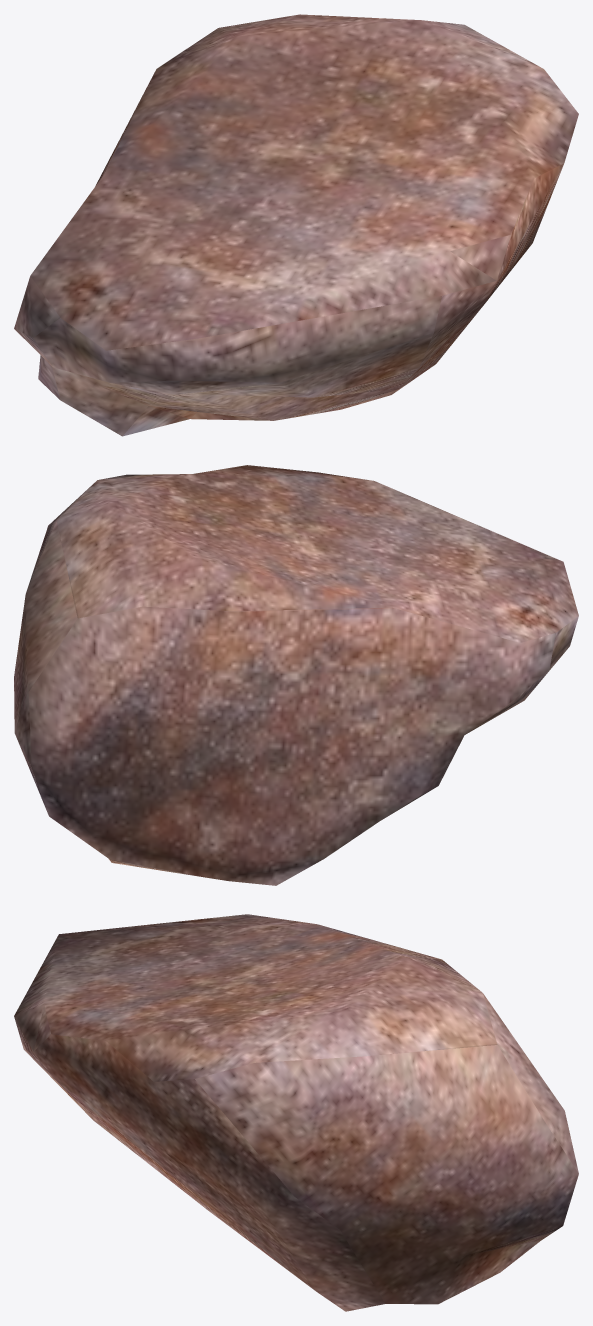
File: rock066.glb
3 renders of one model, top to bottom at view 1: azimuth 30°, elevation 25°; view 2: azimuth 150°, elevation 25°; view 3: azimuth 270°, elevation 25°, orthographic. The views are drawn at different scales.
Parts seen in each view (by area): view 1: rock066; view 2: rock066; view 3: rock066.
Boxes of the visible parts, box(x1,y1,x2,y2) form: rock066: box(14, 14, 578, 436); rock066: box(14, 465, 578, 885); rock066: box(14, 914, 578, 1311).
Bounding box in the file's own units: 0.9612 × 0.6136 × 0.9831.
1 material, 1 textured.
